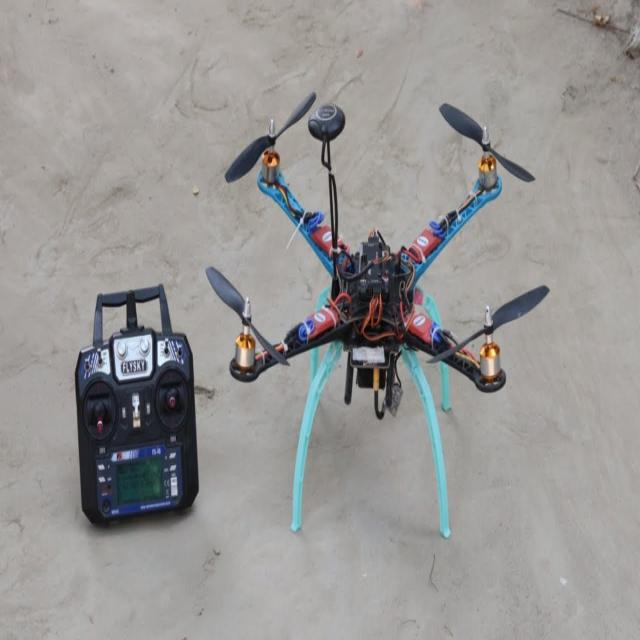drone: (214, 93, 545, 571)
